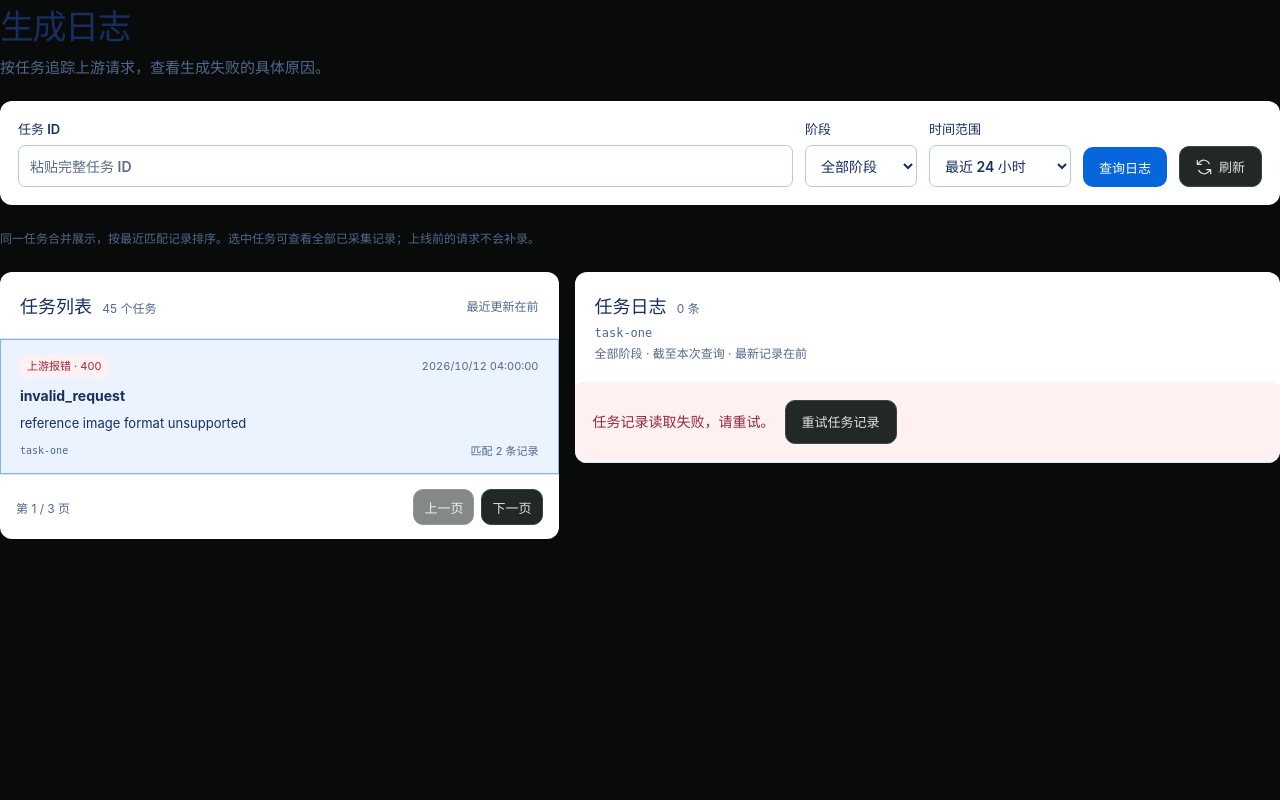
Test: retries a failed task record query independently
The image size is (1280, 800).
What coordinates should you click on to do the following:
click the button "重试任务记录"
I would click on:
 (840, 422)
Its box is 784,400 -> 896,444.
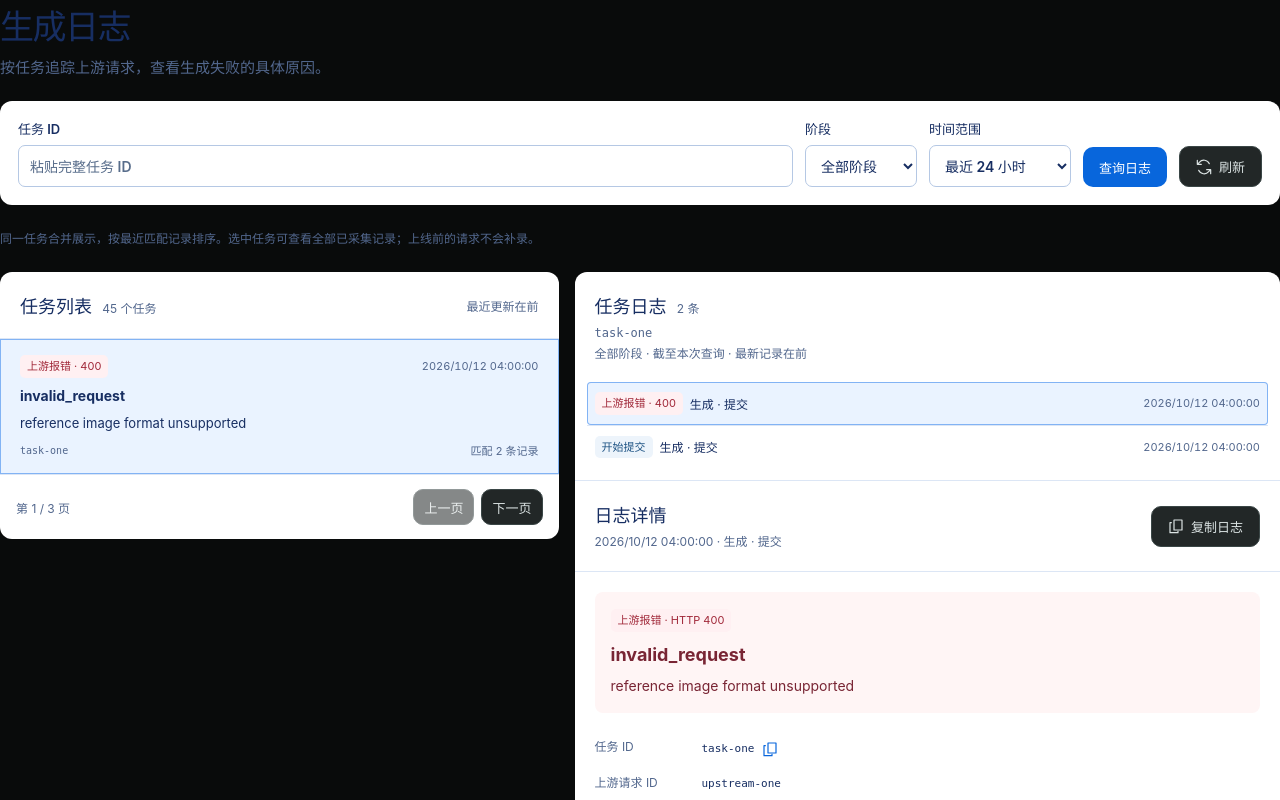
Result: the text "upstream-one" is shown at 702,778 -> 781,790
